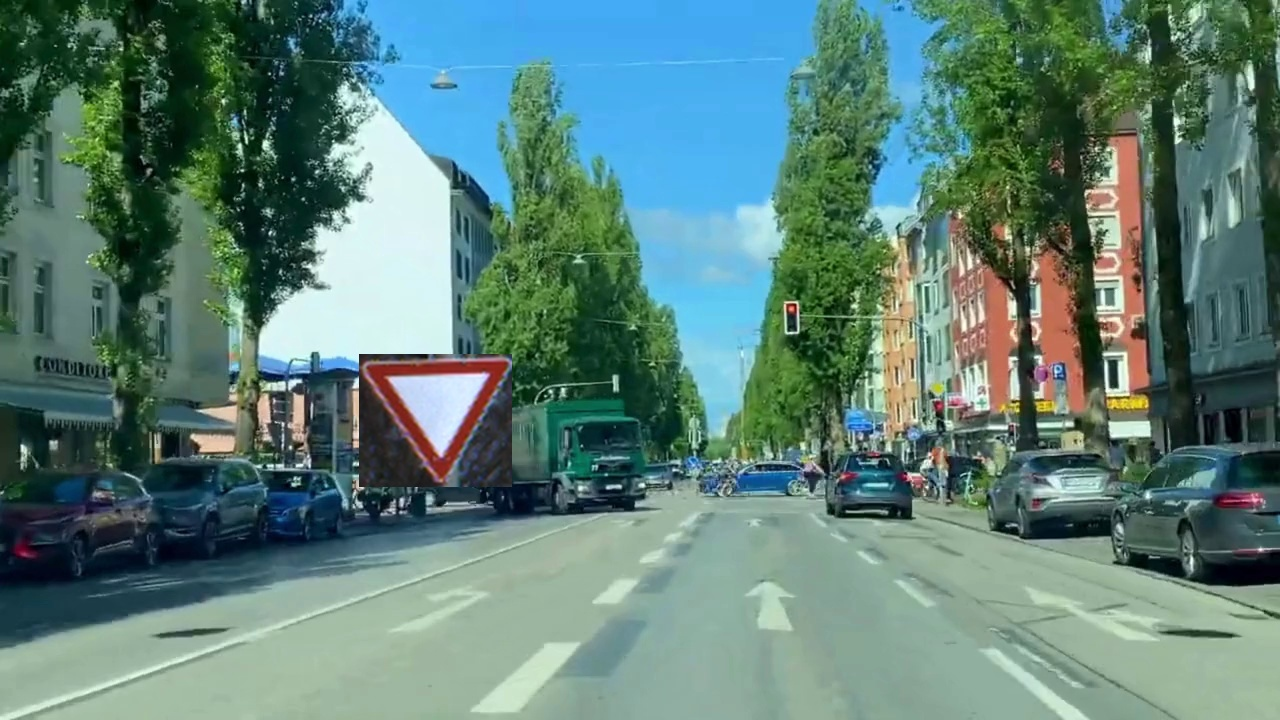Yield: (359, 354, 512, 487)
